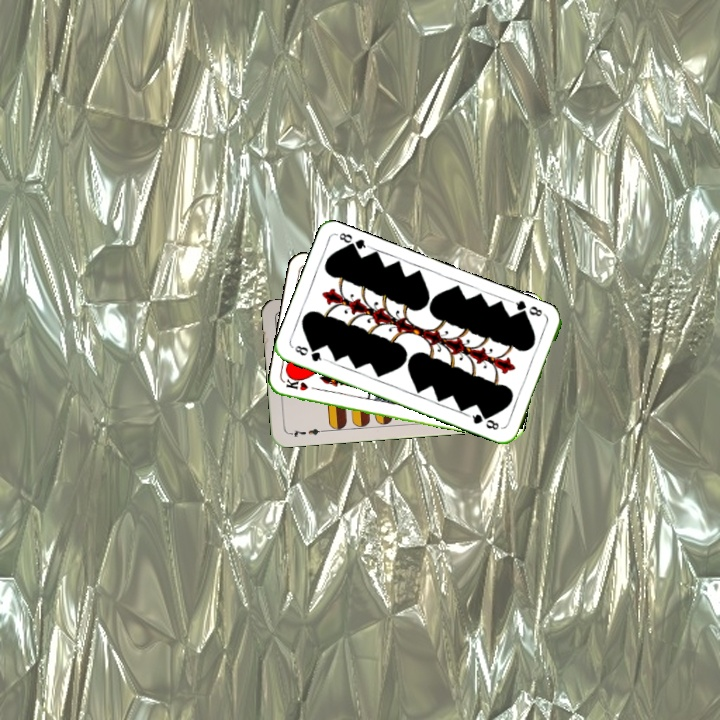E7: (285, 424, 326, 439)
G8: (509, 296, 545, 320), (291, 341, 328, 364)
HK: (282, 376, 323, 393)
